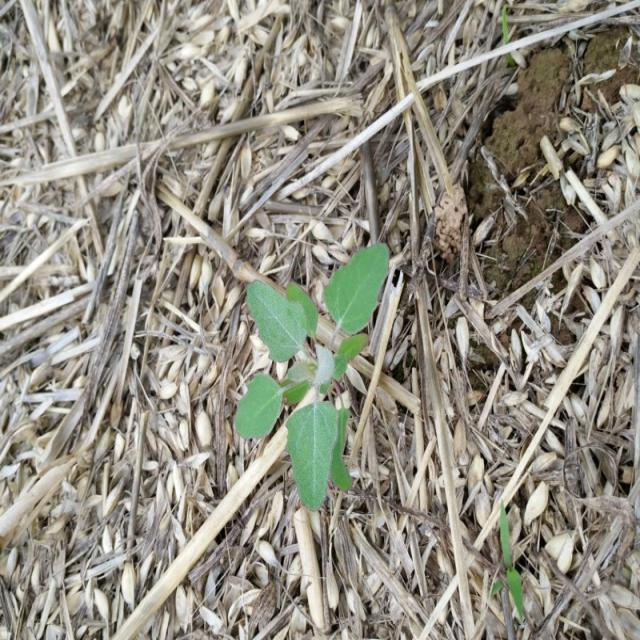goosefoots: (215, 200, 402, 508)
